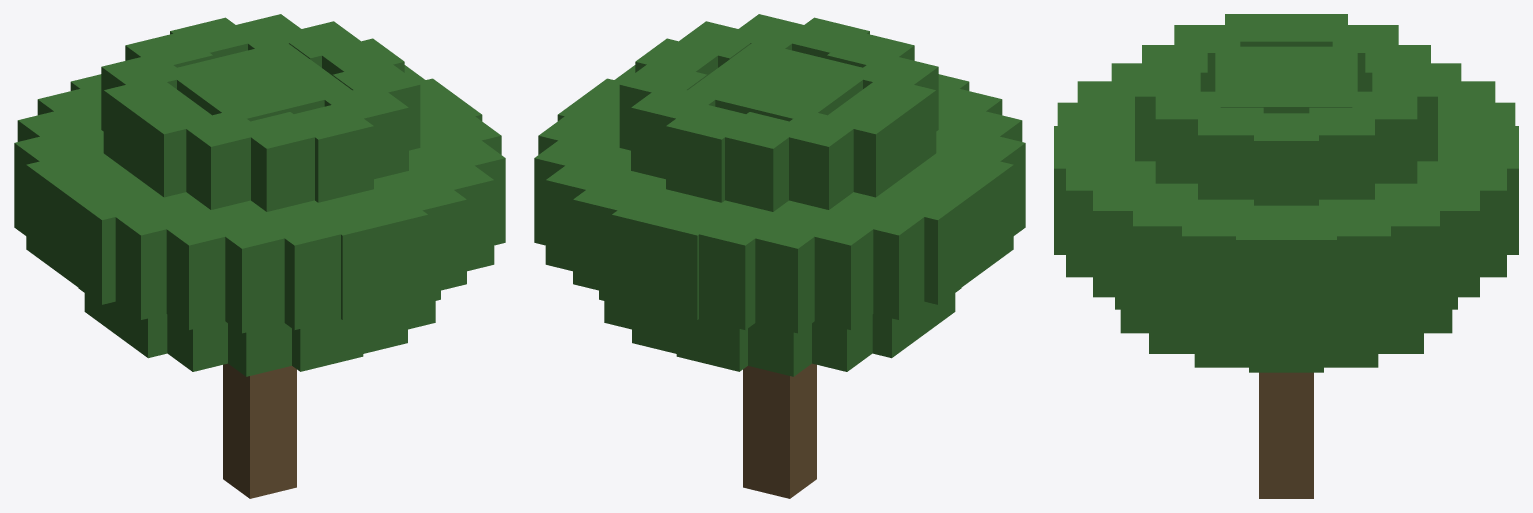
Rendered from tree_round_1.glb.
3 renders of one model, left to right at view 1: azimuth 30°, elevation 25°; view 2: azimuth 150°, elevation 25°; view 3: azimuth 270°, elevation 25°, orthographic. The views are drawn at different scales.
Parts seen in each view (by area): view 1: body; view 2: body; view 3: body.
Part boxes in pixels (x1=…): body: x1=14, y1=14, x2=505, y2=498; body: x1=534, y1=14, x2=1025, y2=498; body: x1=1054, y1=14, x2=1518, y2=498.
Bounding box in the file's own units: 6.71 × 6.55 × 6.72.
